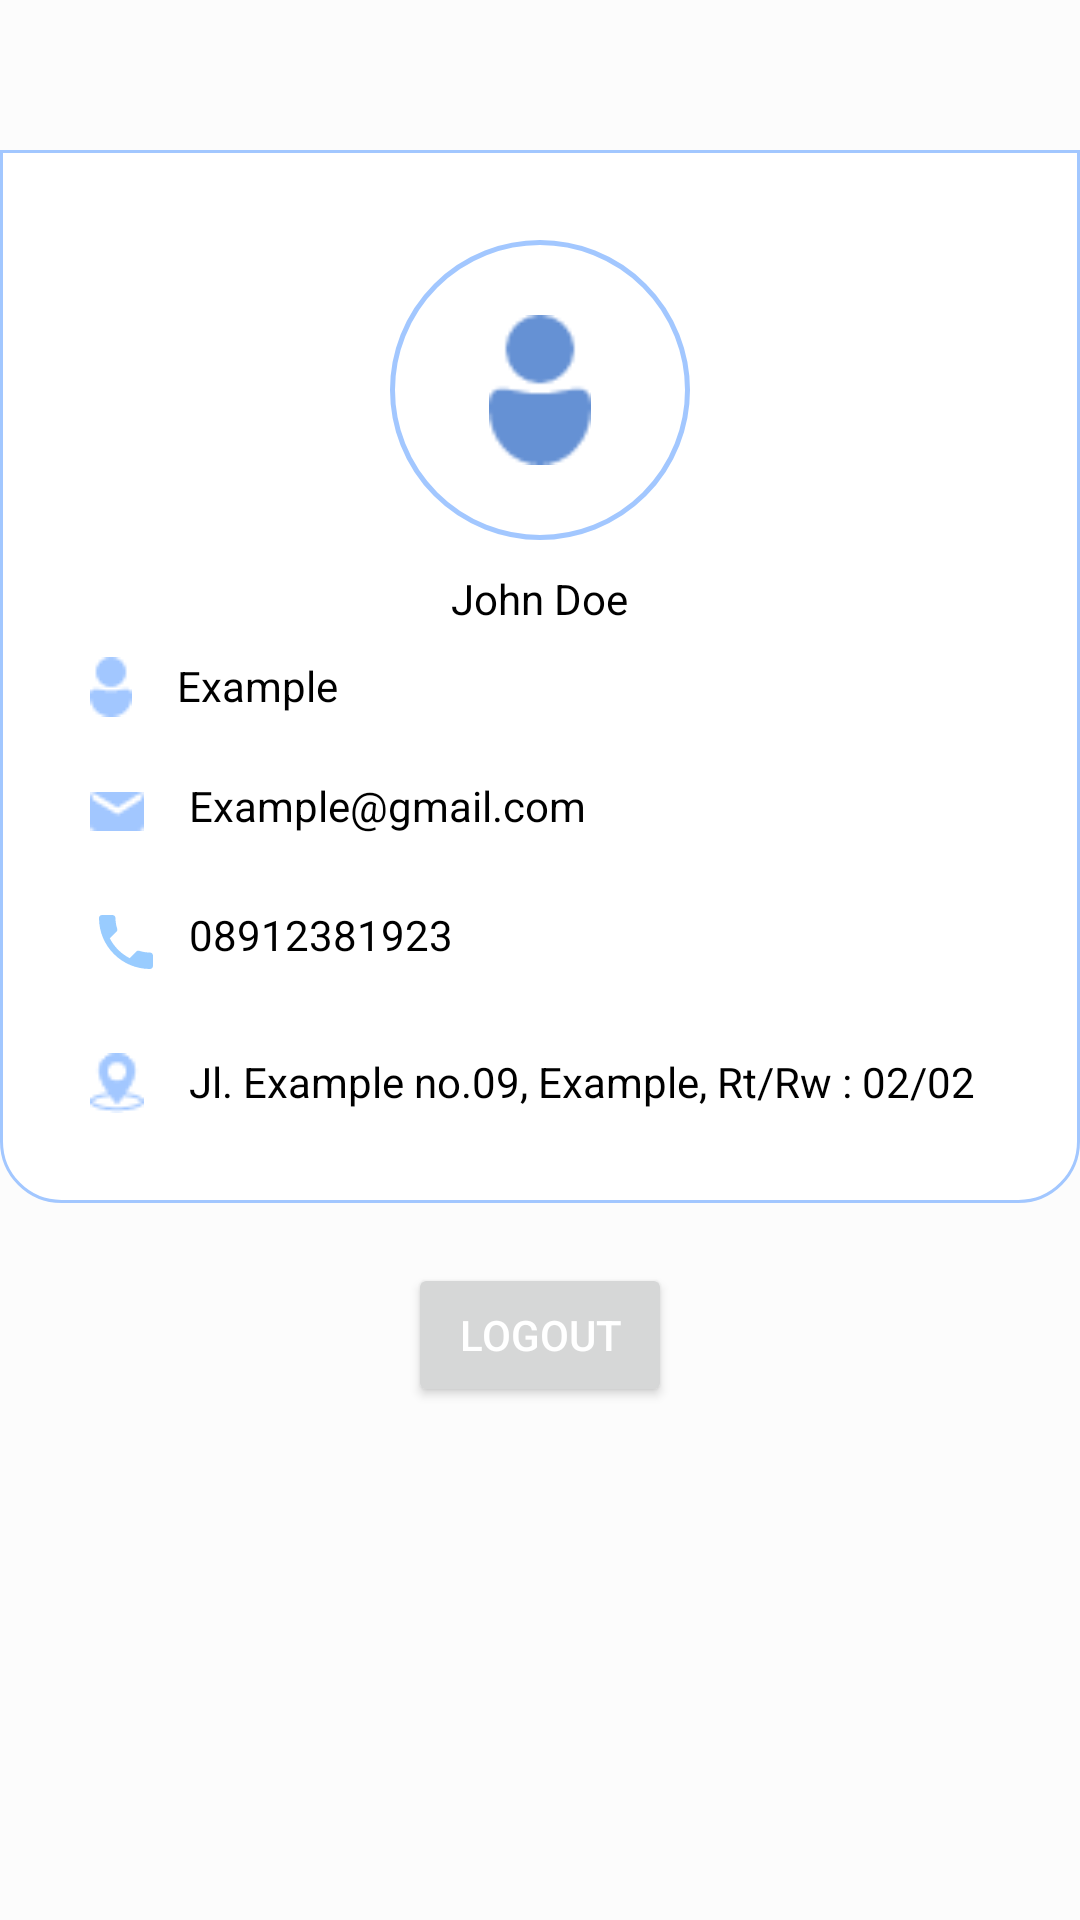

Where icons sit on this 1080*1920 app screen, as {"left": x1, "top": y1, "right": x2, "bottom": y2}:
email: {"left": 90, "top": 792, "right": 144, "bottom": 831}
location: {"left": 90, "top": 1053, "right": 144, "bottom": 1111}
phone: {"left": 99, "top": 915, "right": 153, "bottom": 969}
